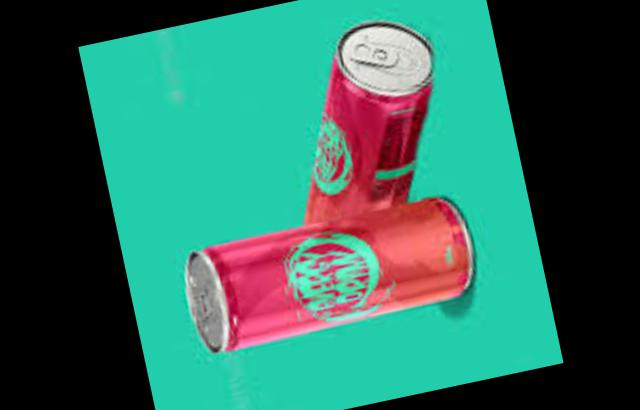metal: (182, 203, 467, 356), (302, 27, 427, 227)
